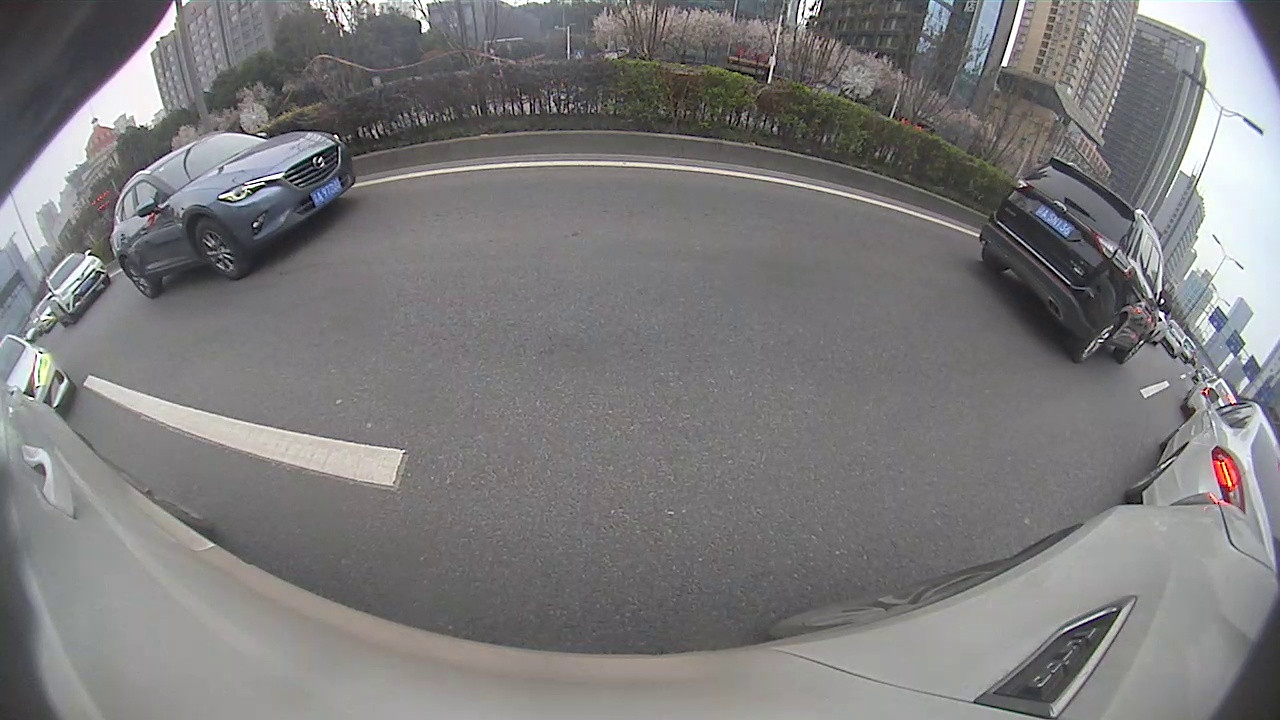car: (977, 155, 1176, 367), (111, 133, 356, 298), (1122, 387, 1278, 570), (42, 248, 111, 328)
front: (192, 221, 240, 277)
rear: (1076, 322, 1116, 363), (120, 258, 154, 298)
